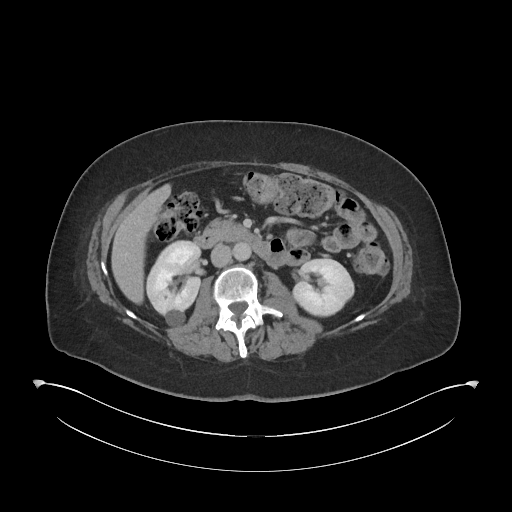Lesion: (161, 309, 185, 332)
